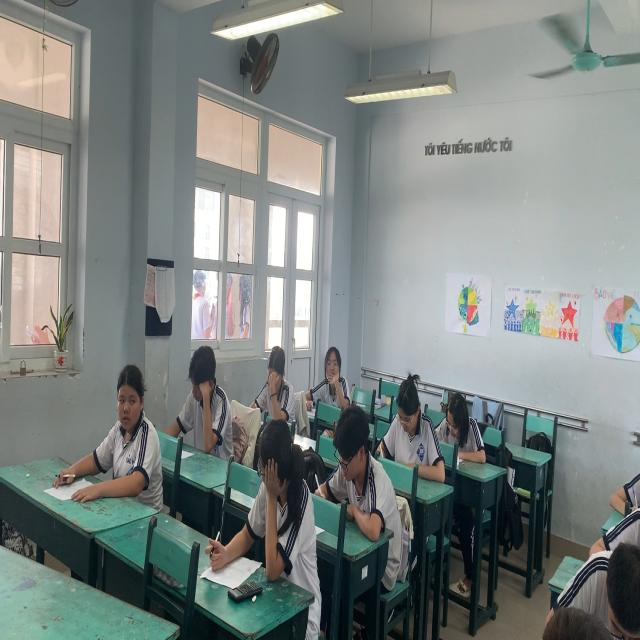cheating: (240, 408, 311, 607), (97, 343, 167, 494), (310, 323, 357, 421)
not_cheating: (501, 532, 640, 639), (317, 378, 389, 534), (565, 492, 640, 640), (171, 317, 230, 466), (379, 346, 432, 466), (240, 309, 296, 420), (596, 440, 640, 576), (430, 348, 482, 448), (609, 385, 640, 516)
